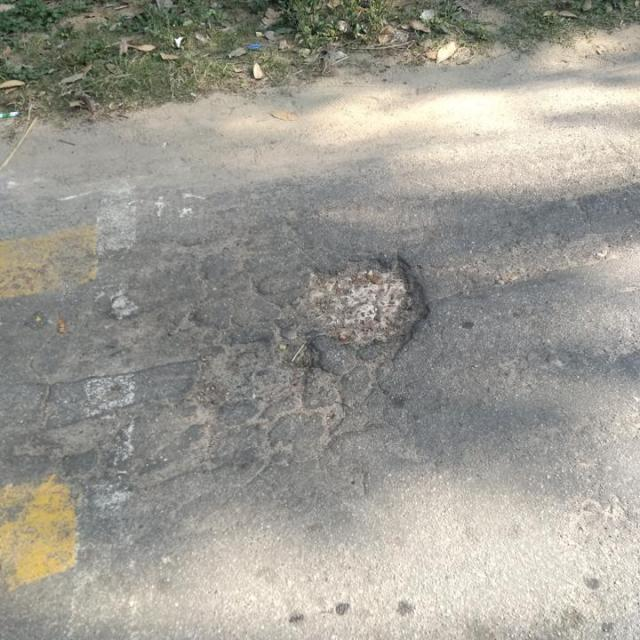Pothole: (291, 251, 438, 352), (185, 336, 325, 413)
